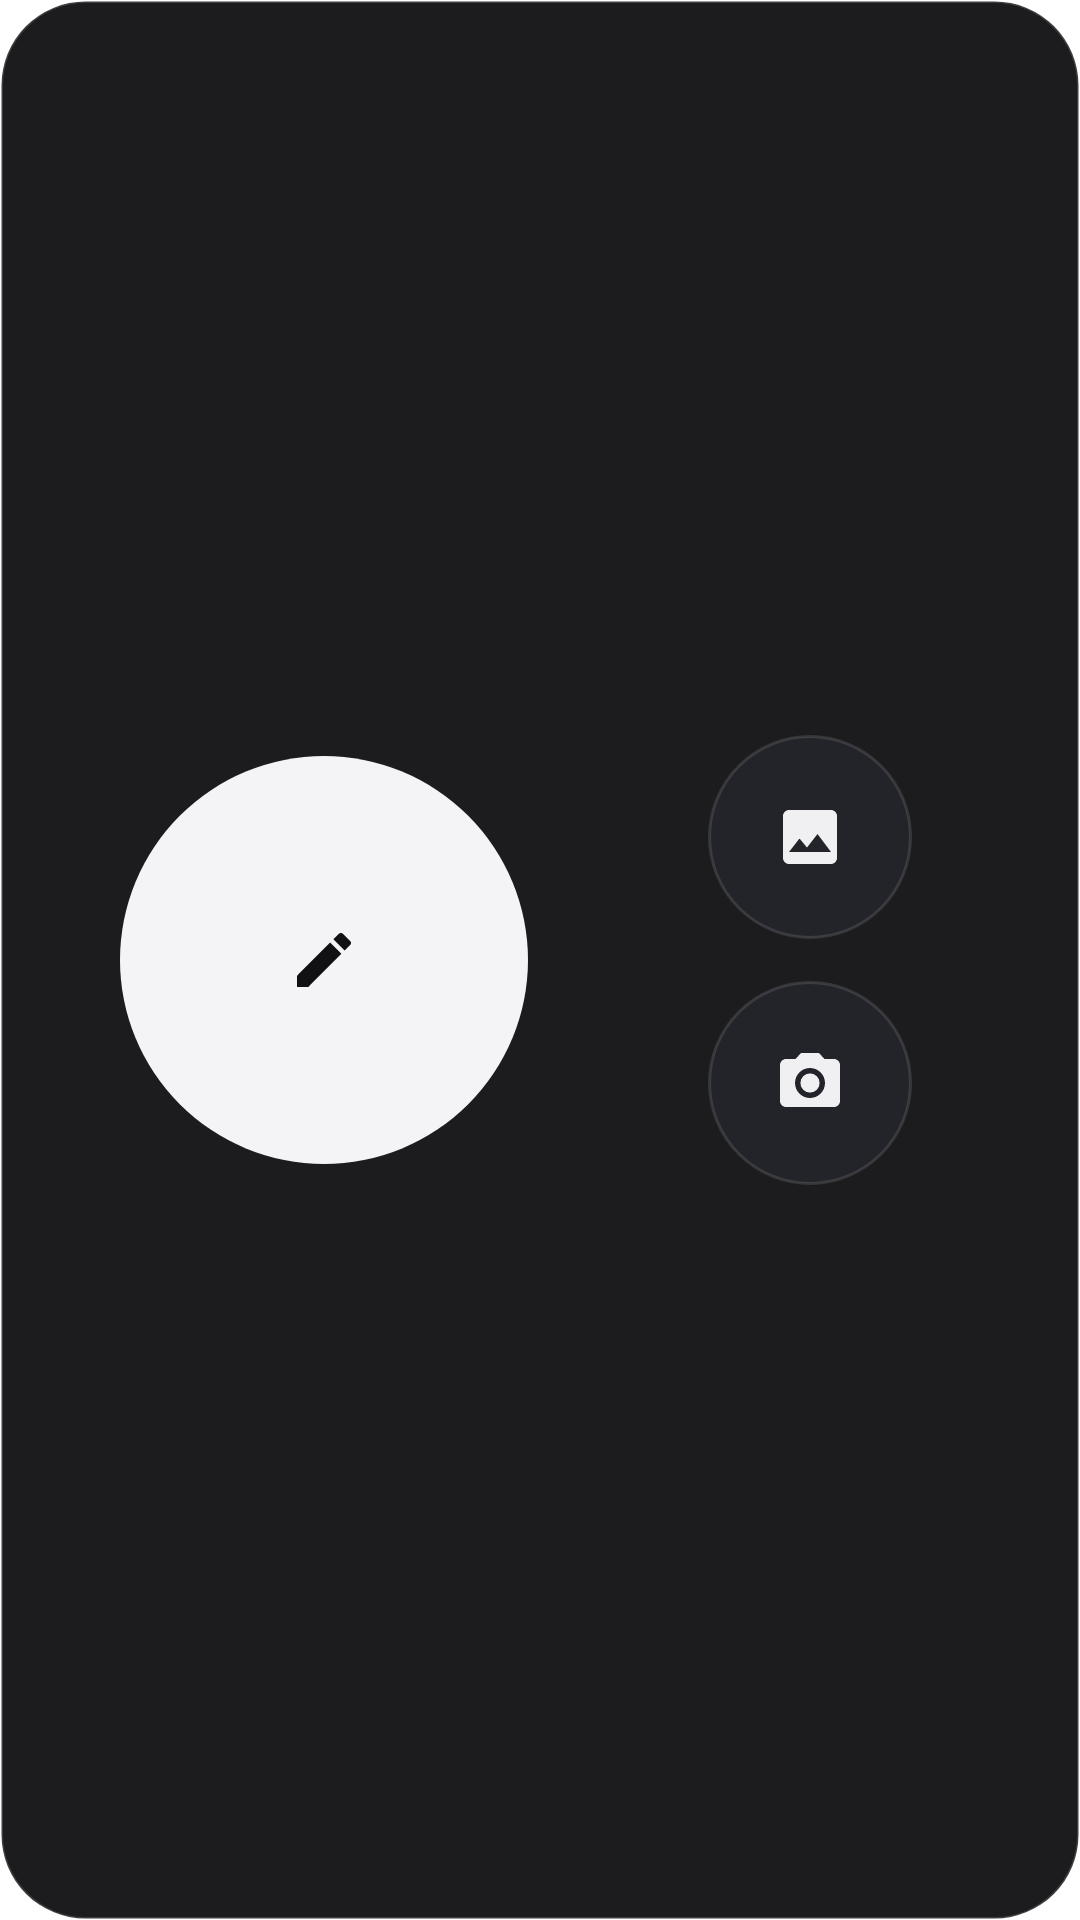

Icon click points for this 1080 × 1920 phone screenshot, format (x,y):
widget camera: (810,1080)
widget gallery: (810,837)
widget pen: (324,960)
